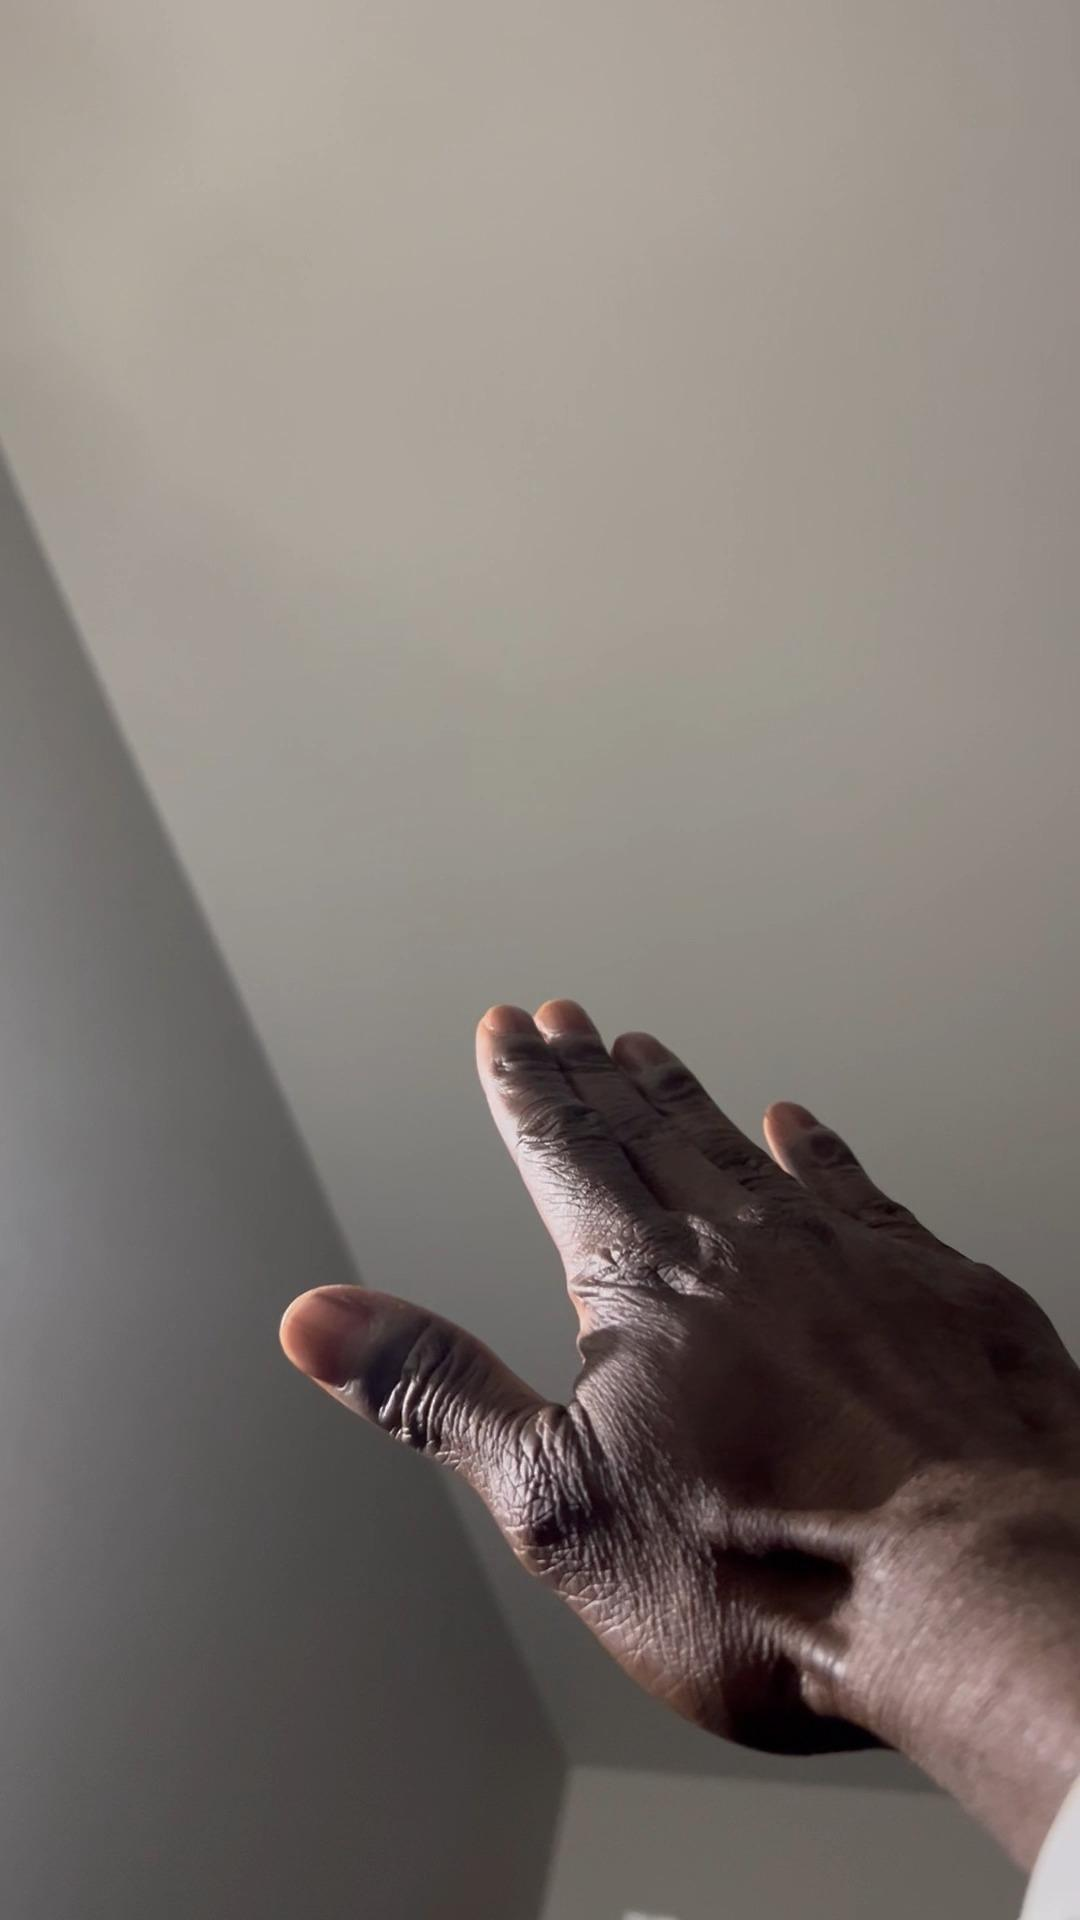Paper: (273, 986, 1080, 1767)
